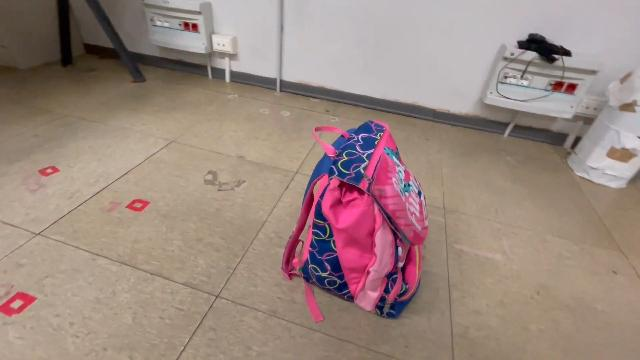Backpack: (277, 116, 433, 332)
